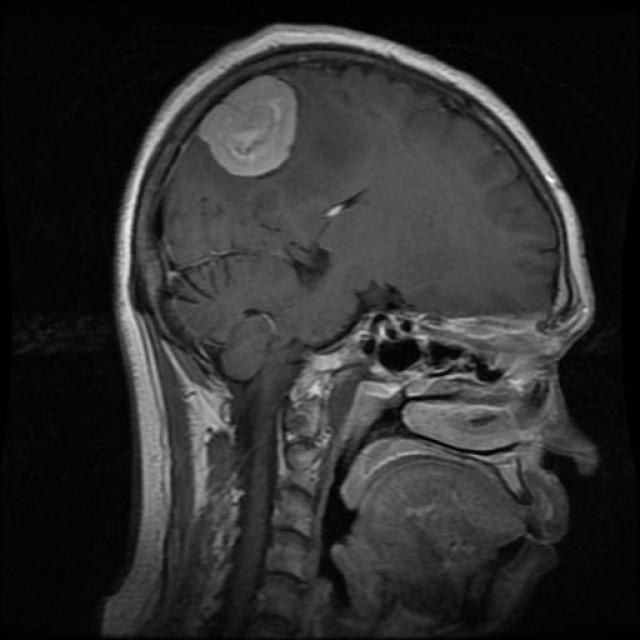meningioma: (198, 78, 296, 179)
